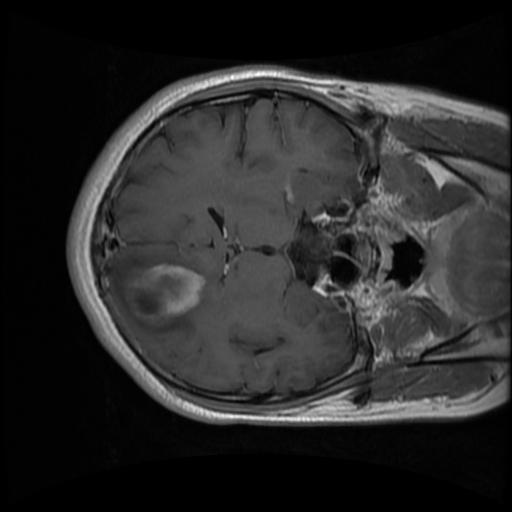glioma: (124, 261, 206, 327)
